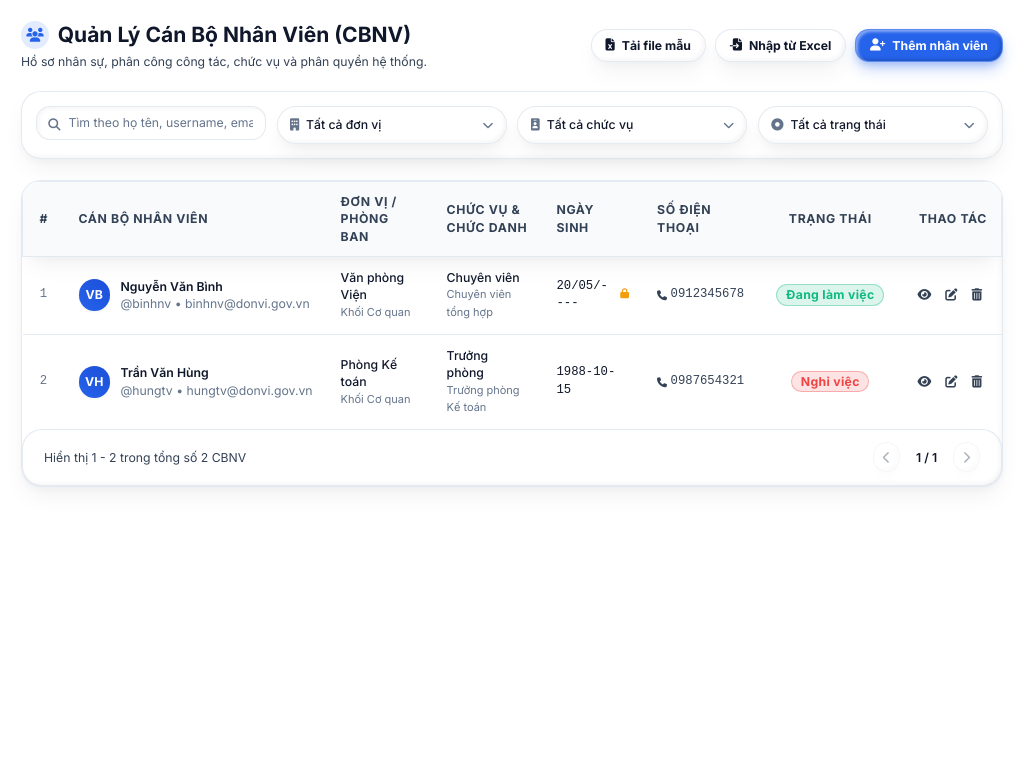
Test: EmployeesPage Component (Issue #24) › displays error message from backend when delete fails
The width and height of the screenshot is (1024, 768).
Expected: the text "Nguyễn Văn Bình" is shown, [120, 278, 223, 294]
What coordinates should you click on to do the following:
click the button titled "Xóa" in the row of "VB"
I would click on:
 (977, 295)
Its box is [966, 281, 988, 309].
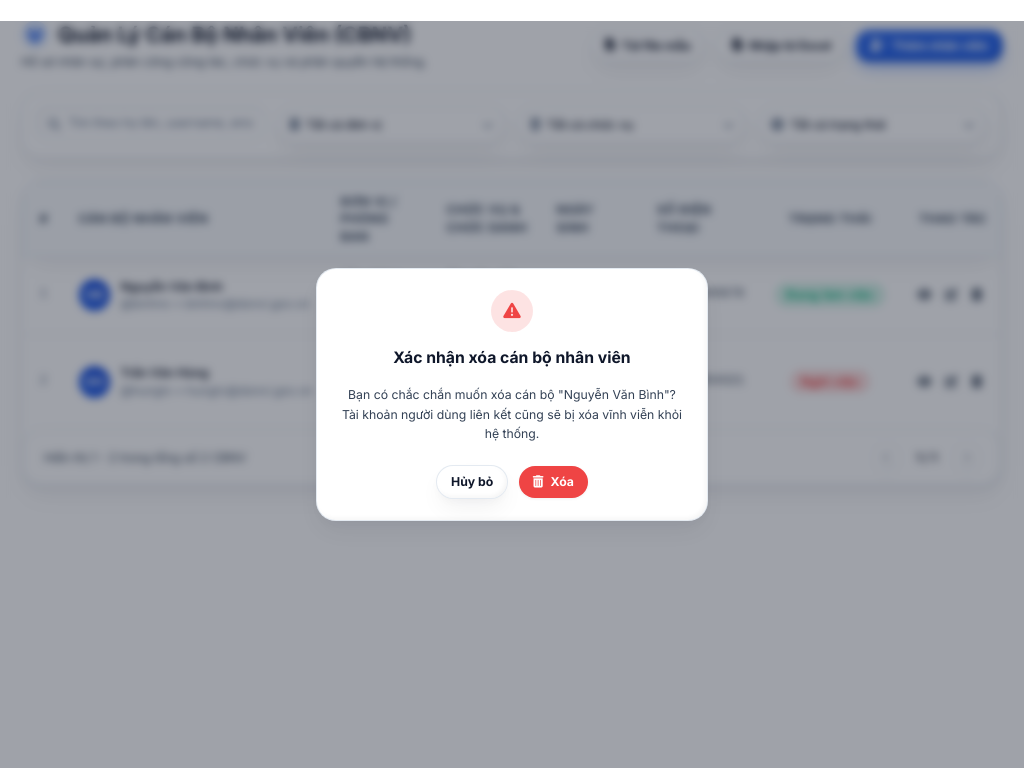
Result: the heading "Xác nhận xóa cán bộ nhân viên" is shown at [393, 348, 631, 367]
The modal's confirm button is the last button with text "Xóa"
What coordinates should you click on to do the following:
click the button "Xóa"
I would click on:
 (553, 482)
Its box is [519, 466, 588, 498].
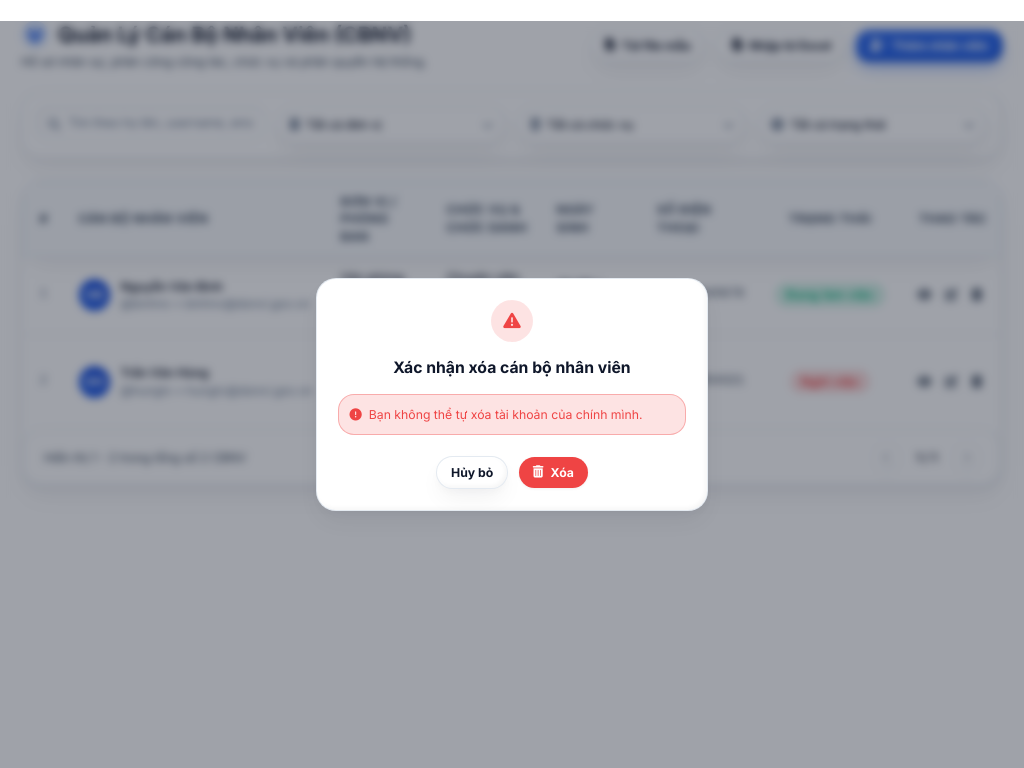
Result: the text "Bạn không thể tự xóa tài khoản của chính mình." is shown at [338, 394, 686, 435]
